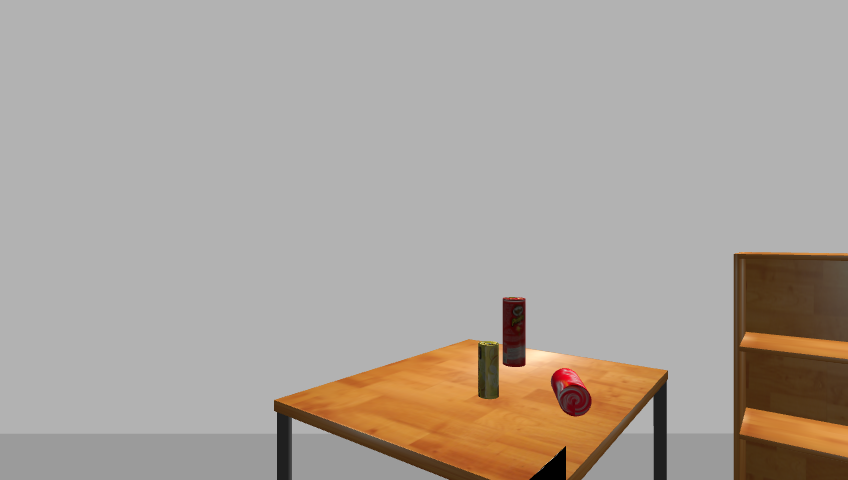aruco marker: (523, 447, 570, 480)
biscuits pack: (477, 340, 501, 400)
bookshelf: (727, 250, 848, 478)
coke can: (549, 368, 594, 417)
dinner table: (268, 340, 679, 480)
pringles can: (500, 296, 528, 369)
